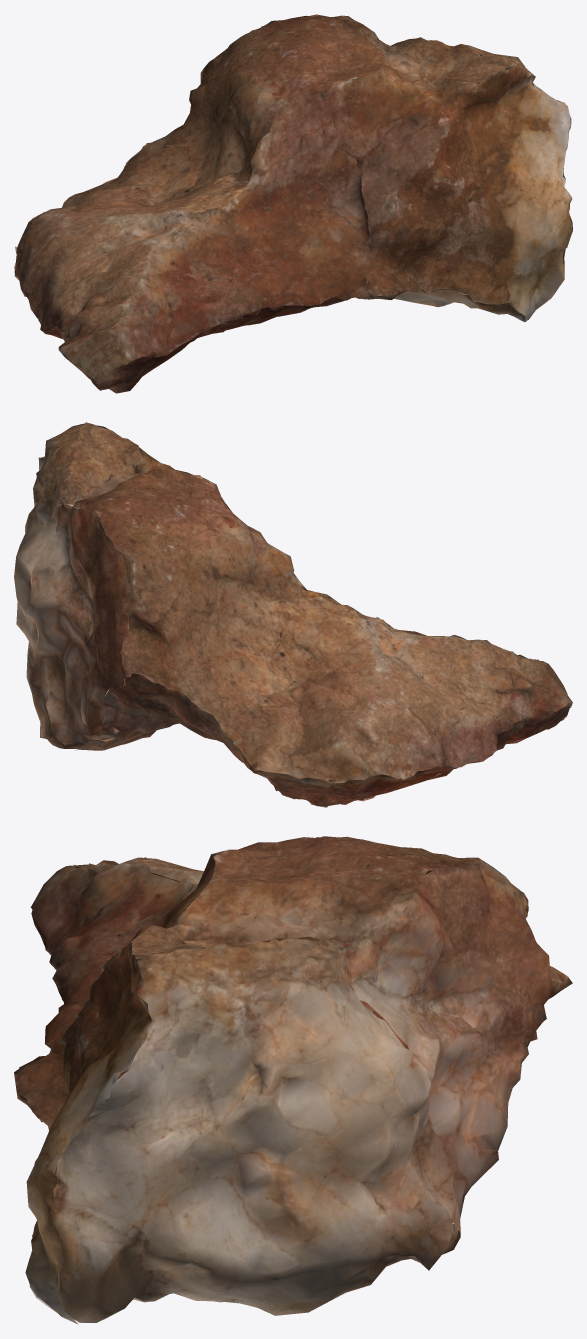
Rendered from stone_01.glb.
3 renders of one model, top to bottom at view 1: azimuth 30°, elevation 25°; view 2: azimuth 150°, elevation 25°; view 3: azimuth 270°, elevation 25°, orthographic. The views are drawn at different scales.
Visible parts, largest first — view 1: stone_01_0; view 2: stone_01_0; view 3: stone_01_0.
Boxes of the visible parts, x1=… form: stone_01_0: x1=14, y1=14, x2=572, y2=393; stone_01_0: x1=14, y1=422, x2=572, y2=807; stone_01_0: x1=14, y1=836, x2=572, y2=1324.
Bounding box in the file's own units: 0.1471 × 0.0715 × 0.0897.
Materials: 1 (1 with a texture image).
